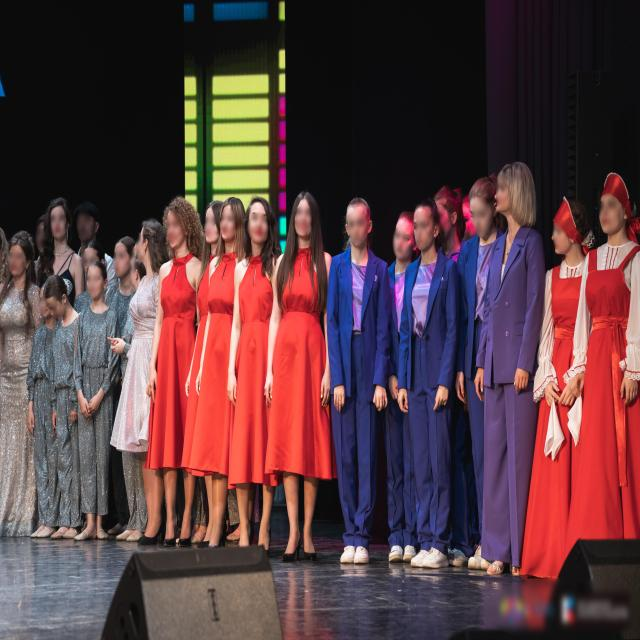Person: (327, 191, 386, 585), (585, 163, 640, 570), (280, 185, 336, 565), (401, 192, 456, 571), (490, 154, 540, 568), (540, 189, 592, 578), (465, 170, 511, 596), (156, 196, 208, 544), (239, 186, 286, 561), (385, 205, 428, 572), (70, 260, 122, 548), (0, 221, 42, 550), (212, 188, 245, 550), (132, 220, 168, 530), (30, 282, 67, 567), (46, 278, 84, 551), (35, 189, 79, 308), (113, 228, 144, 328), (108, 227, 137, 311), (72, 237, 111, 280), (72, 191, 100, 244), (32, 202, 49, 264)
